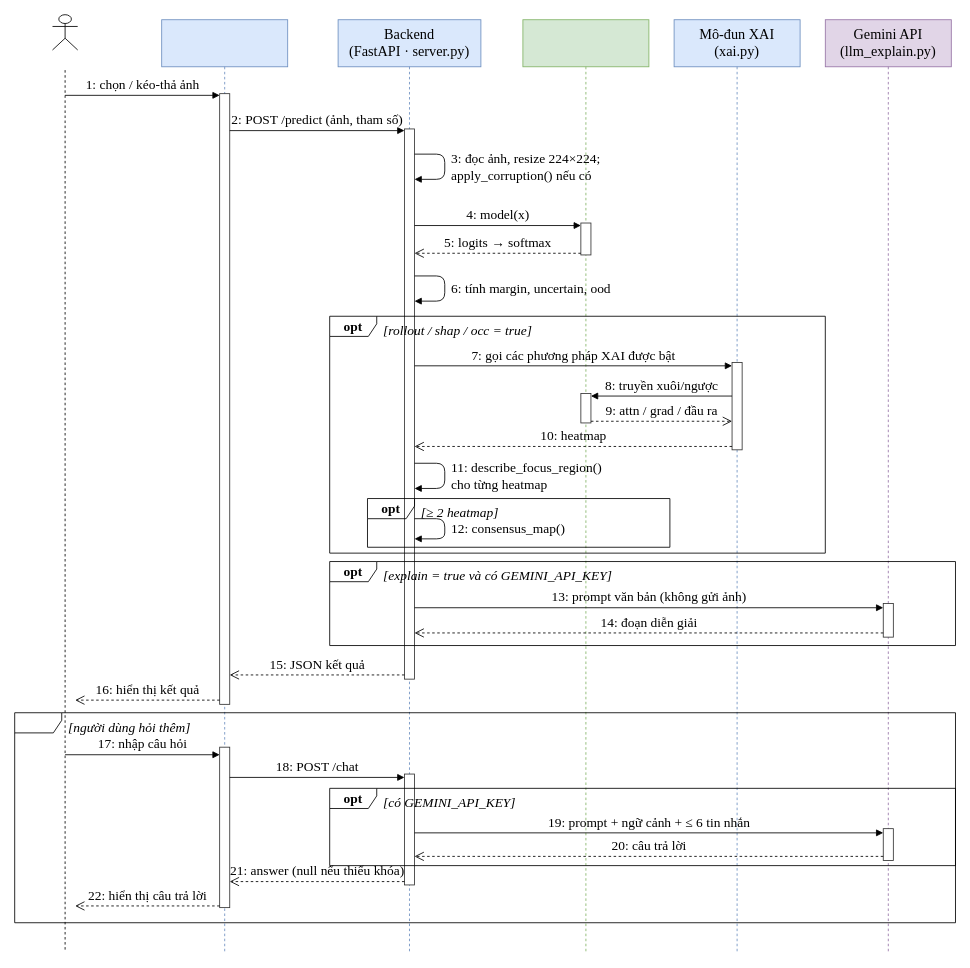
This 970x968 diagram has some shape labels left out. The shapes that lost their labels are listed below. From the top down, each one's box as (x1, y1, x2, y2) in pixels, then its label:
(52, 14, 78, 50): Người dùng
(161, 19, 288, 952): Frontend (Next.js)
(522, 19, 649, 952): ChiliEdgeNet (model.py)
(14, 712, 956, 923): loop
